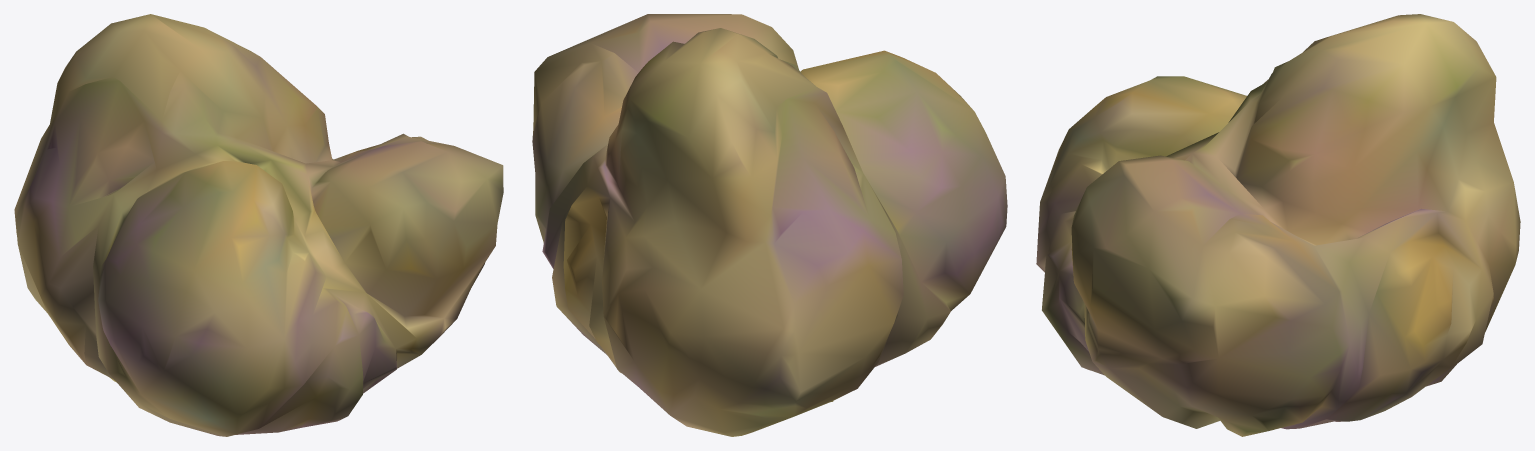
File: MediumDrop_game.glb
3 views of the same model, side by side, from view 1: azimuth 30°, elevation 25°; view 2: azimuth 150°, elevation 25°; view 3: azimuth 270°, elevation 25° (orthographic). The views are drawn at different scales.
Visible parts, largest first — view 1: MediumDrop; view 2: MediumDrop; view 3: MediumDrop.
Part boxes in pixels (box(x1,y1,x2,y2)): MediumDrop: box(14, 14, 503, 436); MediumDrop: box(532, 14, 1007, 436); MediumDrop: box(1036, 14, 1520, 436).
Size of the model in its own units: 1 by 0.8613 by 0.9874.
